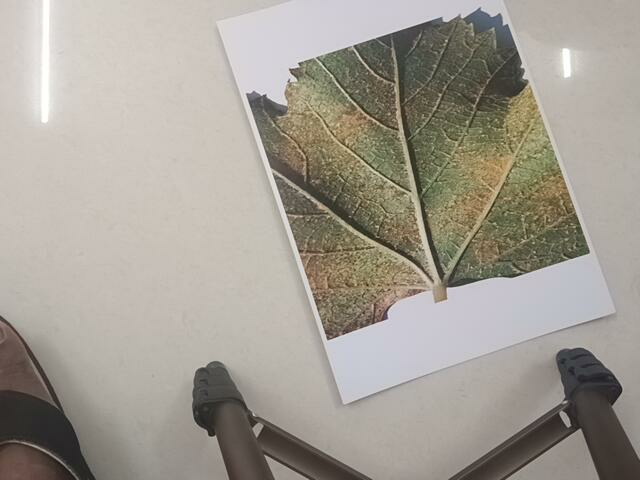Grape_Rust_Fungus: (236, 8, 614, 342)
